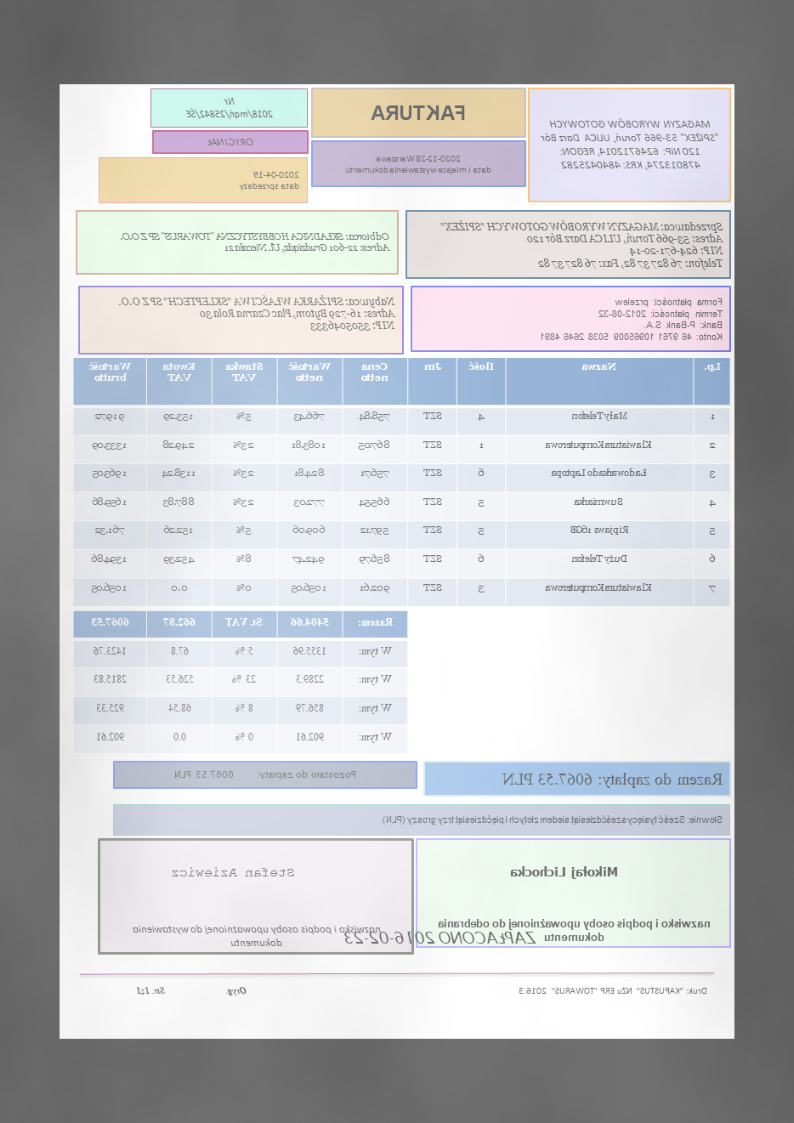Table: (71, 355, 732, 609), (73, 610, 410, 755)
TextBox: (438, 216, 725, 273), (116, 292, 397, 334), (539, 116, 721, 173), (538, 294, 725, 343), (439, 918, 714, 944), (120, 228, 393, 254), (131, 921, 382, 949), (382, 811, 724, 827), (500, 768, 726, 791), (339, 927, 536, 950), (343, 151, 495, 178), (517, 982, 711, 998), (173, 768, 359, 782), (185, 95, 275, 122), (508, 860, 621, 881), (169, 865, 297, 881), (368, 103, 468, 123), (238, 167, 303, 196), (134, 983, 249, 996), (206, 134, 256, 150)
